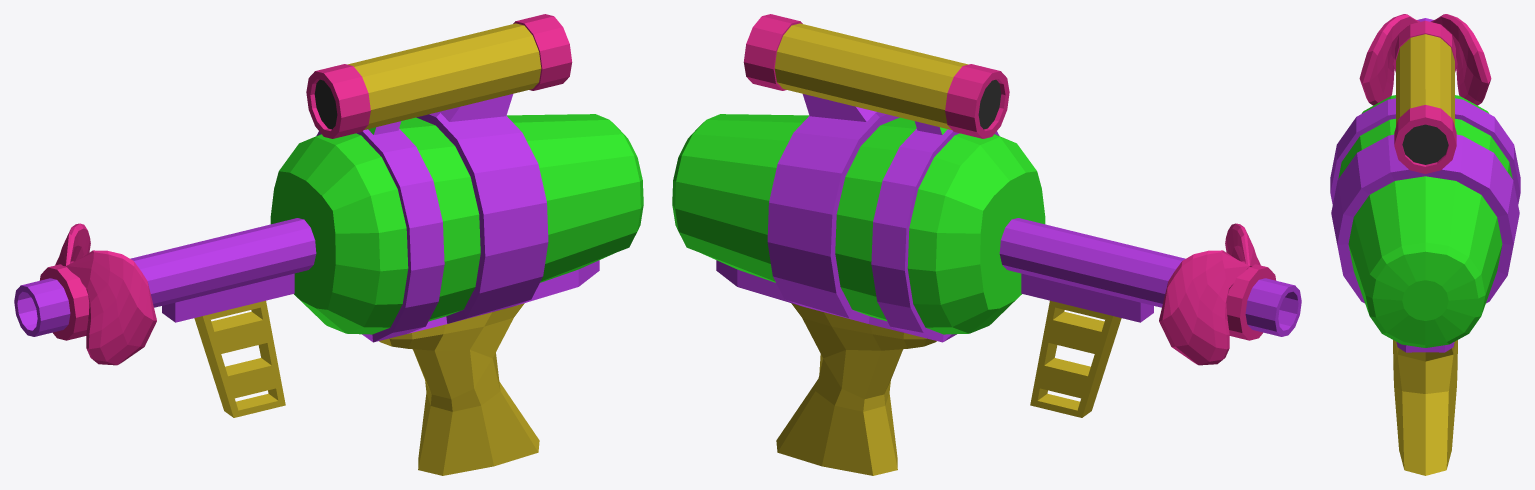
Rendered from Tembak.fbx.
The picture shows the model from 3 angles, left to right: view 1: azimuth 30°, elevation 25°; view 2: azimuth 150°, elevation 25°; view 3: azimuth 270°, elevation 25°; orthographic projection. The views are drawn at different scales.
Parts seen in each view (by area): view 1: Badan senjata, Laras, Scope, Gagang senjata, Plane; view 2: Badan senjata, Laras, Scope, Gagang senjata, Plane; view 3: Badan senjata, Scope, Gagang senjata, Plane.
Part boxes in pixels (x1=…): Badan senjata: x1=270, y1=94, x2=643, y2=342; Laras: x1=14, y1=218, x2=316, y2=417; Scope: x1=306, y1=14, x2=572, y2=138; Gagang senjata: x1=379, y1=303, x2=539, y2=475; Plane: x1=55, y1=223, x2=156, y2=365; Badan senjata: x1=672, y1=94, x2=1045, y2=342; Laras: x1=999, y1=218, x2=1301, y2=417; Scope: x1=743, y1=14, x2=1009, y2=138; Gagang senjata: x1=776, y1=303, x2=936, y2=475; Plane: x1=1159, y1=223, x2=1260, y2=365; Badan senjata: x1=1330, y1=95, x2=1520, y2=352; Scope: x1=1394, y1=20, x2=1456, y2=173; Gagang senjata: x1=1393, y1=340, x2=1457, y2=475; Plane: x1=1359, y1=14, x2=1491, y2=105.
Size of the model in its own units: 341 by 232 by 109.
